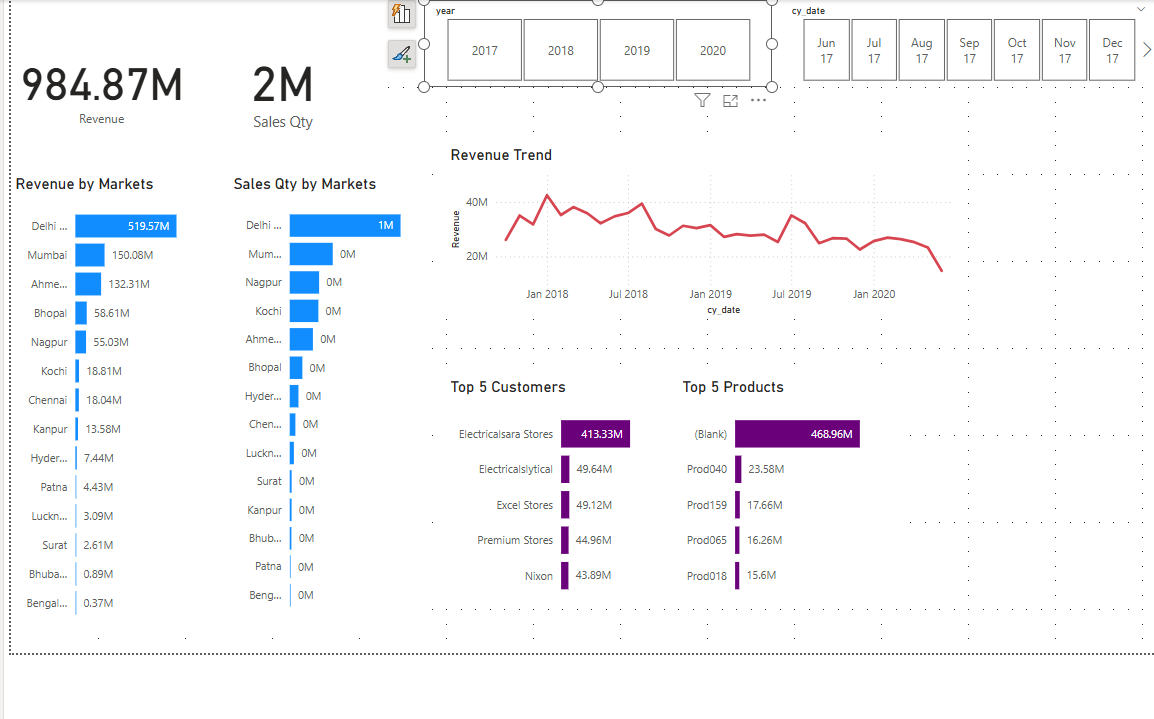

This screenshot's page, from the dashboard's own definition file:
{"tool":"powerbi","page":{"name":"Page 2","canvas":[1280,720],"ordinal":1},"visuals":[{"type":"card","fields":{"Values":["BaseMeasures.Revenue"]},"box":[0,0,200,192],"z":0},{"type":"card","fields":{"Values":["BaseMeasures.Sales Qty"]},"box":[192,0,216,192],"z":1000},{"type":"barChart","title":"Revenue by Markets","fields":{"Y":["BaseMeasures.Revenue"],"Category":["sales markets.markets_name"]},"box":[0,192,232,504],"z":2000},{"type":"barChart","title":"Sales Qty by Markets","fields":{"Y":["BaseMeasures.Sales Qty"],"Category":["sales markets.markets_name"]},"box":[240,192,216,504],"z":3000},{"type":"slicer","fields":{"Values":["sales date.year"]},"box":[456,0,384,96],"z":4000},{"type":"slicer","fields":{"Values":["sales date.cy_date"]},"box":[848,0,416,96],"z":5000},{"type":"barChart","title":"Top 5 Customers","fields":{"Y":["BaseMeasures.Revenue"],"Category":["sales customers.custmer_name"]},"box":[480,416,256,256],"z":6000},{"type":"barChart","title":"Top 5 Products","fields":{"Y":["BaseMeasures.Revenue"],"Category":["sales products.product_code"]},"box":[736,416,256,256],"z":7000},{"type":"lineChart","title":"Revenue Trend","fields":{"Y":["BaseMeasures.Revenue"],"Category":["sales date.cy_date"]},"box":[480,160,576,192],"z":8000}]}

Visuals, with their boxes in screenshot pixels (x1, y1, x2, y2):
card - BaseMeasures.Revenue: <bbox>84, 75, 256, 240</bbox>
card - BaseMeasures.Sales Qty: <bbox>249, 75, 434, 240</bbox>
"Revenue by Markets" barChart: <bbox>84, 240, 283, 672</bbox>
"Sales Qty by Markets" barChart: <bbox>290, 240, 475, 672</bbox>
slicer - sales date.year: <bbox>475, 75, 805, 157</bbox>
slicer - sales date.cy_date: <bbox>811, 75, 1153, 157</bbox>
"Top 5 Customers" barChart: <bbox>496, 432, 715, 651</bbox>
"Top 5 Products" barChart: <bbox>715, 432, 935, 651</bbox>
"Revenue Trend" lineChart: <bbox>496, 212, 990, 377</bbox>
